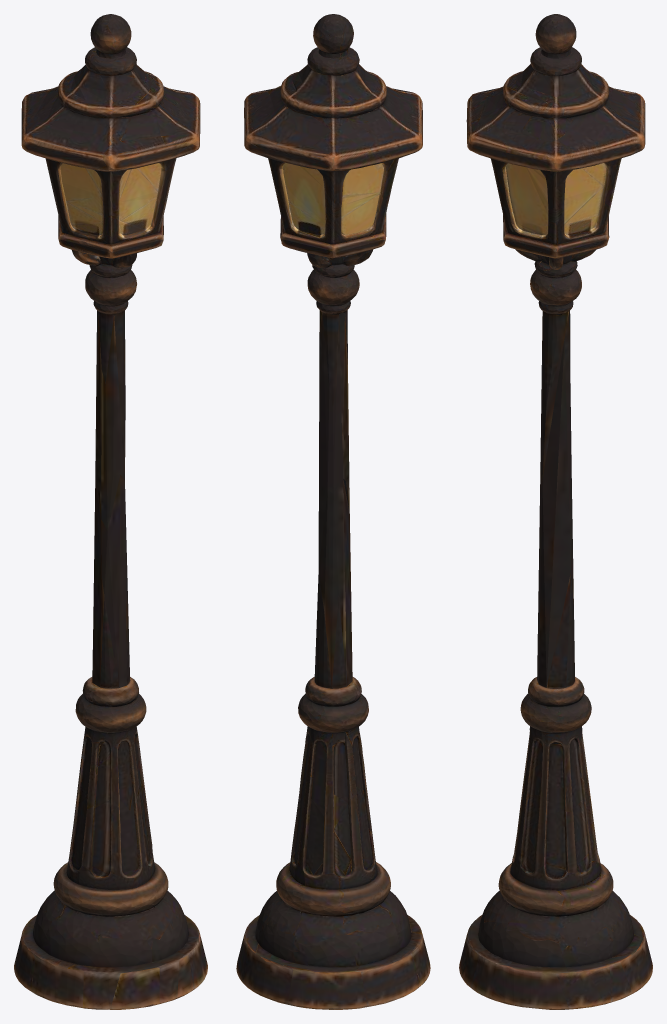
The model's file is lamp.glb.
3 renders of one model, left to right at view 1: azimuth 30°, elevation 25°; view 2: azimuth 150°, elevation 25°; view 3: azimuth 270°, elevation 25°, orthographic.
Size of the model in its own units: 0.7947 by 4.1 by 0.7555.
1 material, 1 textured.
